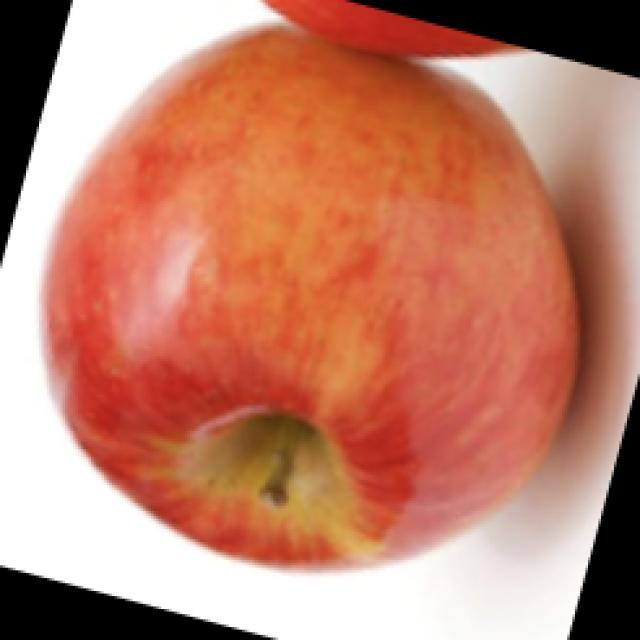Fresh Apple: (94, 42, 564, 565)
